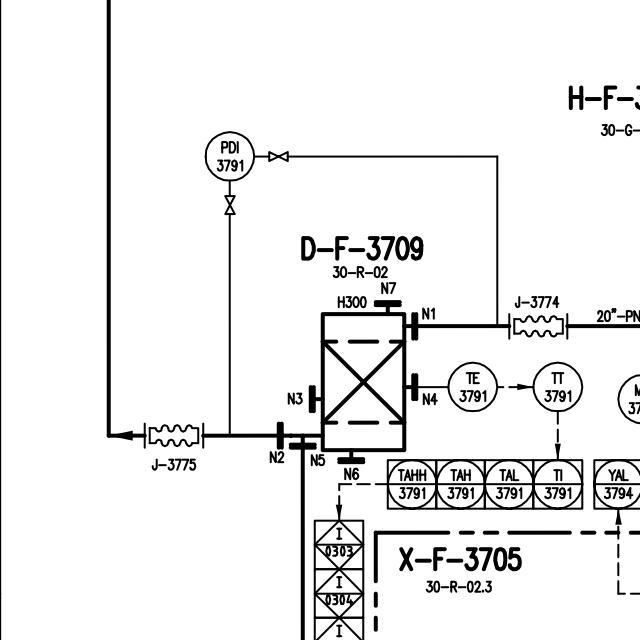D3: (316, 305, 408, 455)
EJ: (504, 311, 571, 343), (139, 418, 206, 449)
GV: (221, 191, 238, 218), (265, 148, 291, 164)
